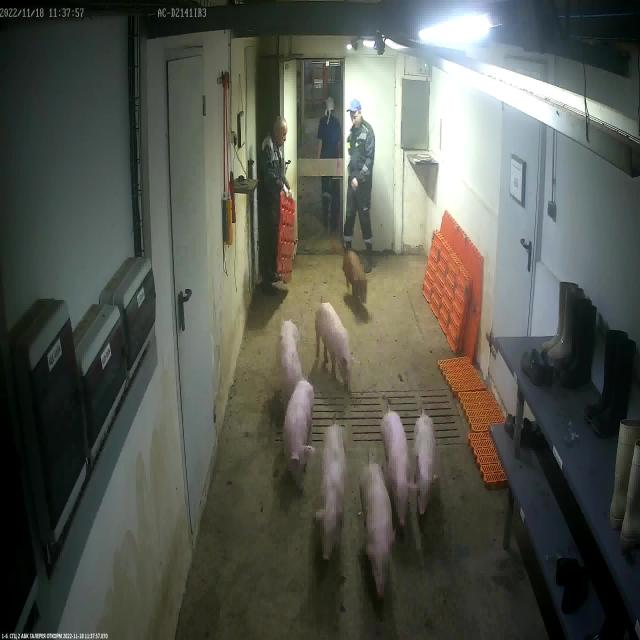pig: (359, 462, 396, 601), (380, 412, 417, 528), (316, 426, 344, 560), (316, 303, 352, 390), (284, 381, 316, 477), (416, 417, 438, 516), (280, 320, 300, 394), (344, 251, 368, 308)
